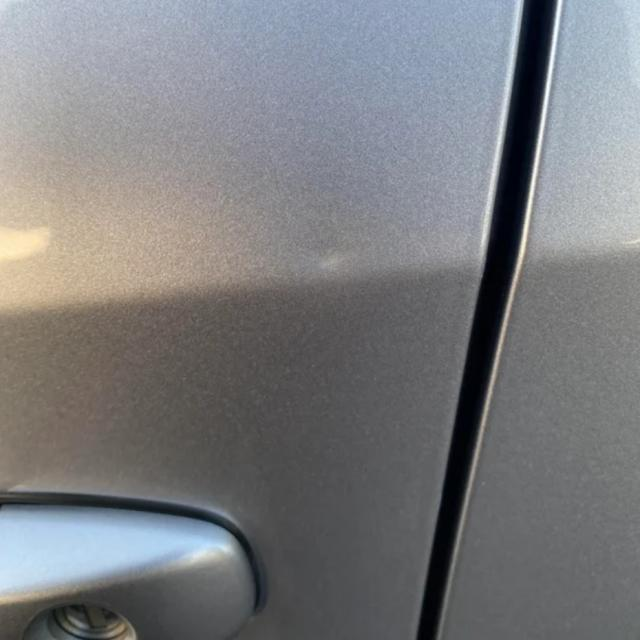dents: (283, 197, 409, 329)
